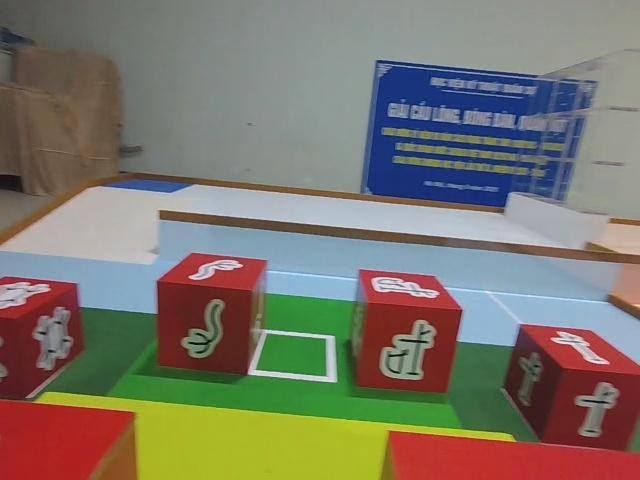R2 Real: (499, 321, 640, 454), (154, 250, 270, 378), (350, 267, 466, 395), (0, 271, 86, 396)
